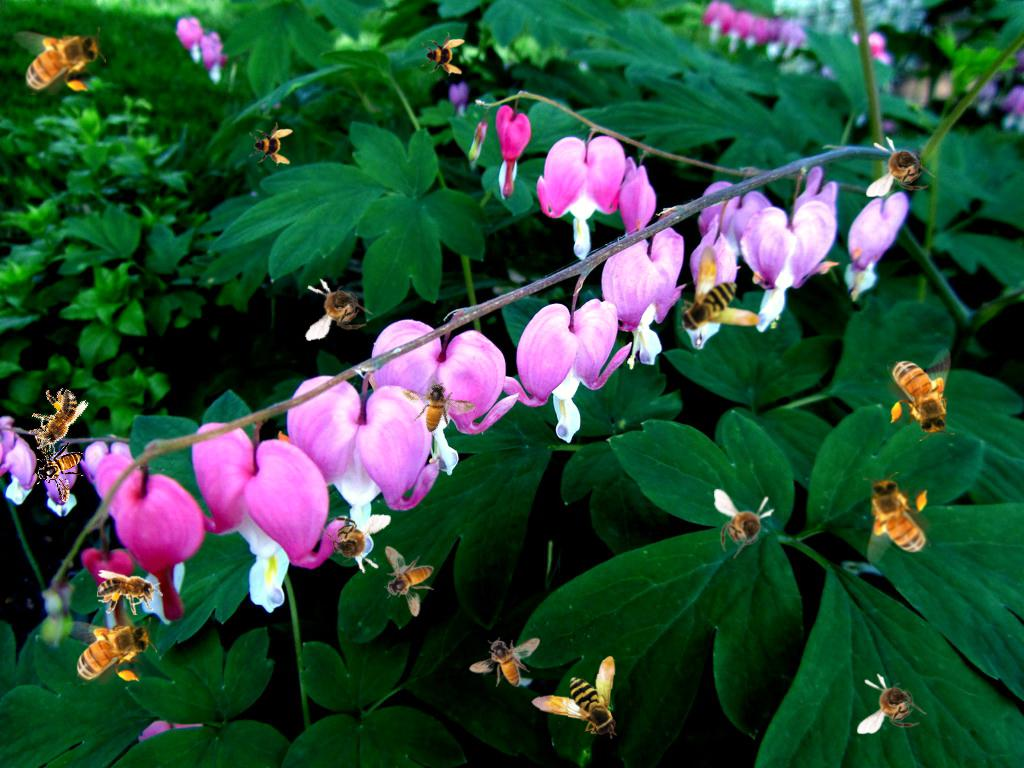Bee: (529, 651, 623, 739), (390, 364, 478, 447), (678, 245, 760, 333), (863, 472, 931, 565), (64, 617, 157, 685), (13, 27, 106, 95), (887, 348, 955, 441), (19, 380, 91, 461), (299, 273, 376, 341), (315, 508, 392, 576), (857, 673, 927, 734), (714, 489, 775, 559), (866, 136, 936, 197), (34, 432, 84, 503), (384, 546, 434, 617), (469, 637, 540, 687), (97, 570, 163, 615), (249, 122, 293, 166), (421, 32, 465, 76)
